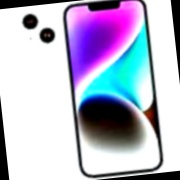samsung: (96, 28, 157, 156)
